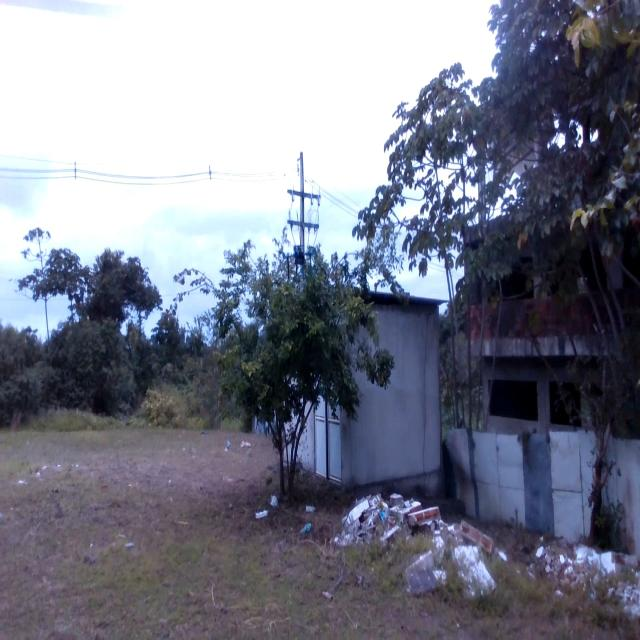-uav-: (280, 228, 320, 292)
